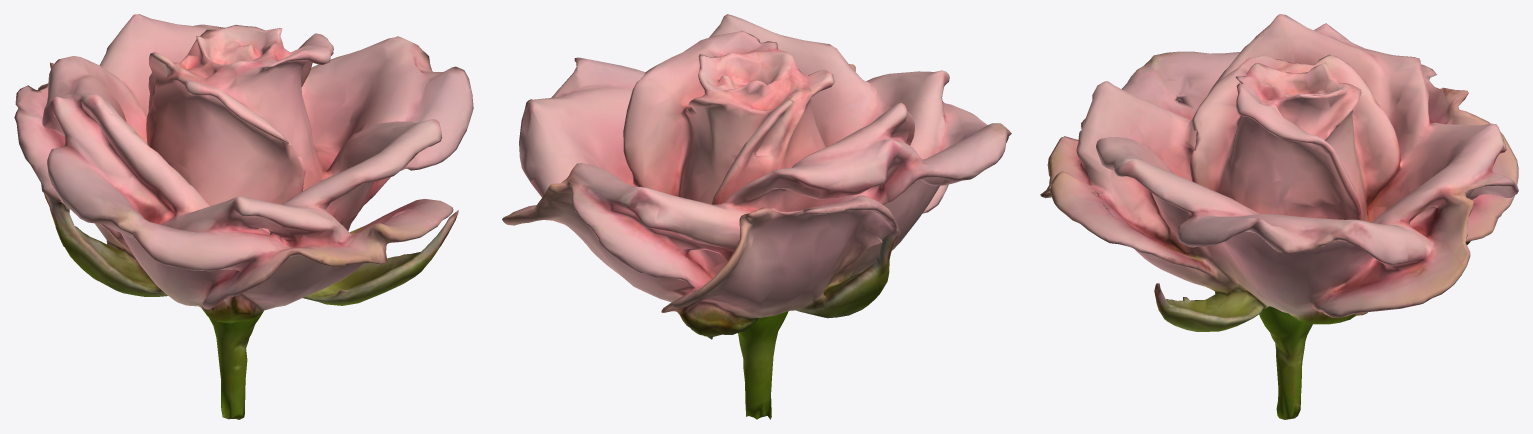
Rendered from gul-pembe.glb.
3 views of the same model, side by side, from view 1: azimuth 30°, elevation 25°; view 2: azimuth 150°, elevation 25°; view 3: azimuth 270°, elevation 25° (orthographic). The views are drawn at different scales.
Visible parts, largest first — view 1: Object_2; view 2: Object_2; view 3: Object_2.
Part boxes in pixels (<box>): Object_2: <box>14,14,473,419</box>; Object_2: <box>502,14,1011,419</box>; Object_2: <box>1040,14,1518,419</box>.
Size of the model in its own units: 0.935 by 0.7984 by 0.9934.
Materials: 1 (1 with a texture image).
